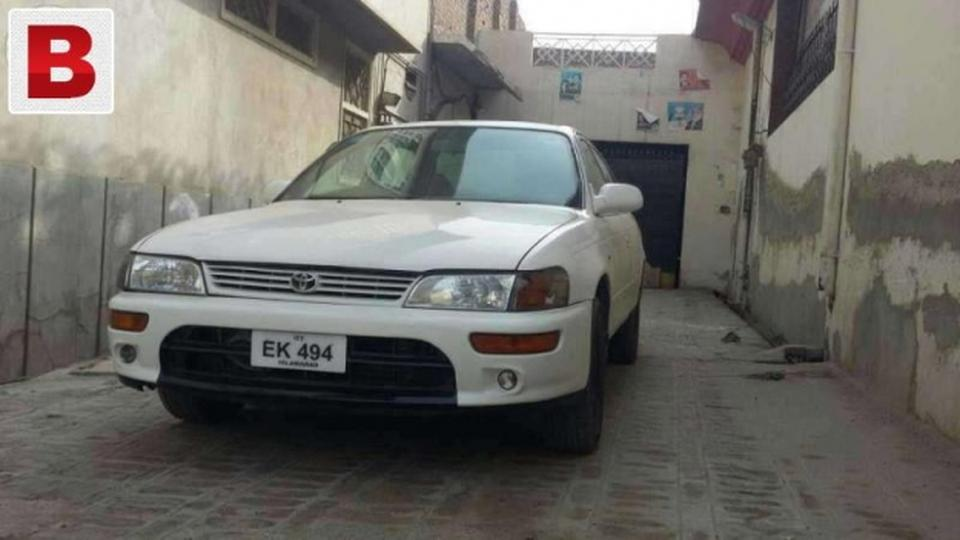NumberPlate: (235, 318, 354, 376)
